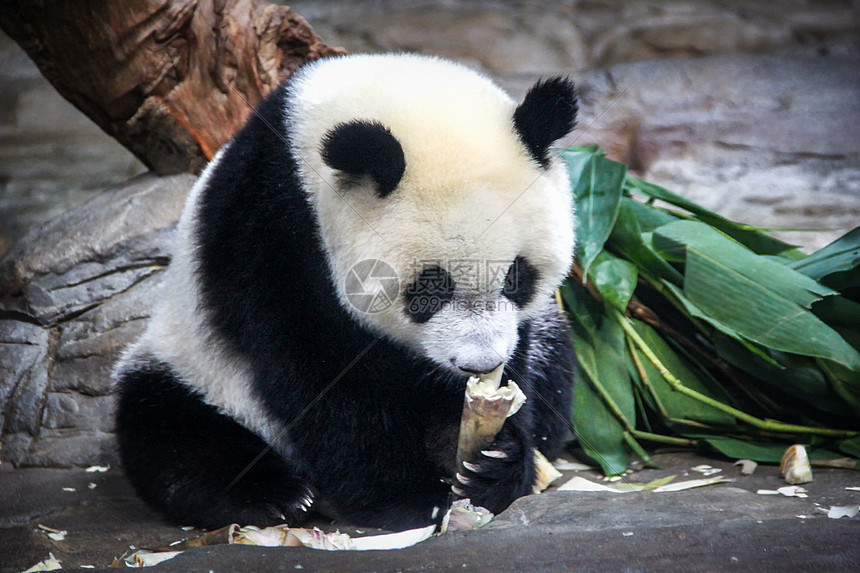panda: (118, 37, 607, 531)
